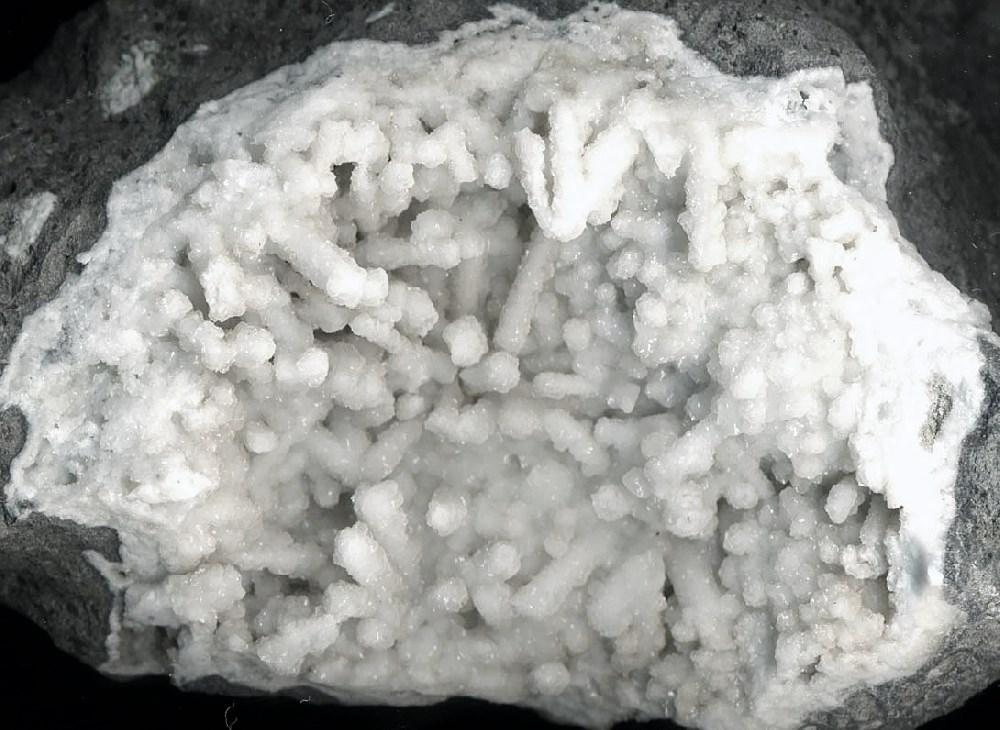prehnite: (0, 12, 997, 730)
